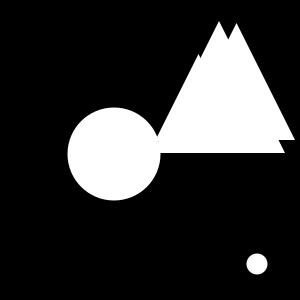rectangle: (68, 107, 160, 200), (246, 254, 268, 274)
triangle: (153, 21, 285, 153), (178, 23, 295, 140), (155, 54, 242, 141)
